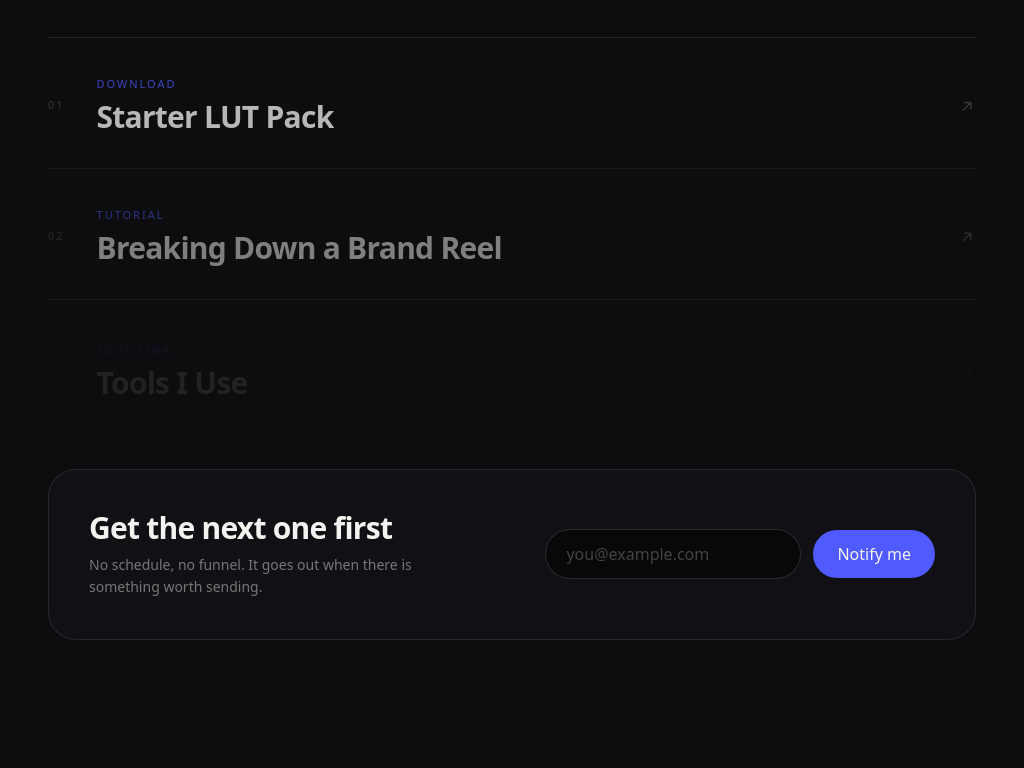
it: ResourcesTeaser › confirms signup for a valid email without claiming a backend exists
This screenshot has width=1024, height=768.
(page scrolled)
Type "reader@example.com" into the field named "email" at [673, 554], box [545, 529, 801, 579]
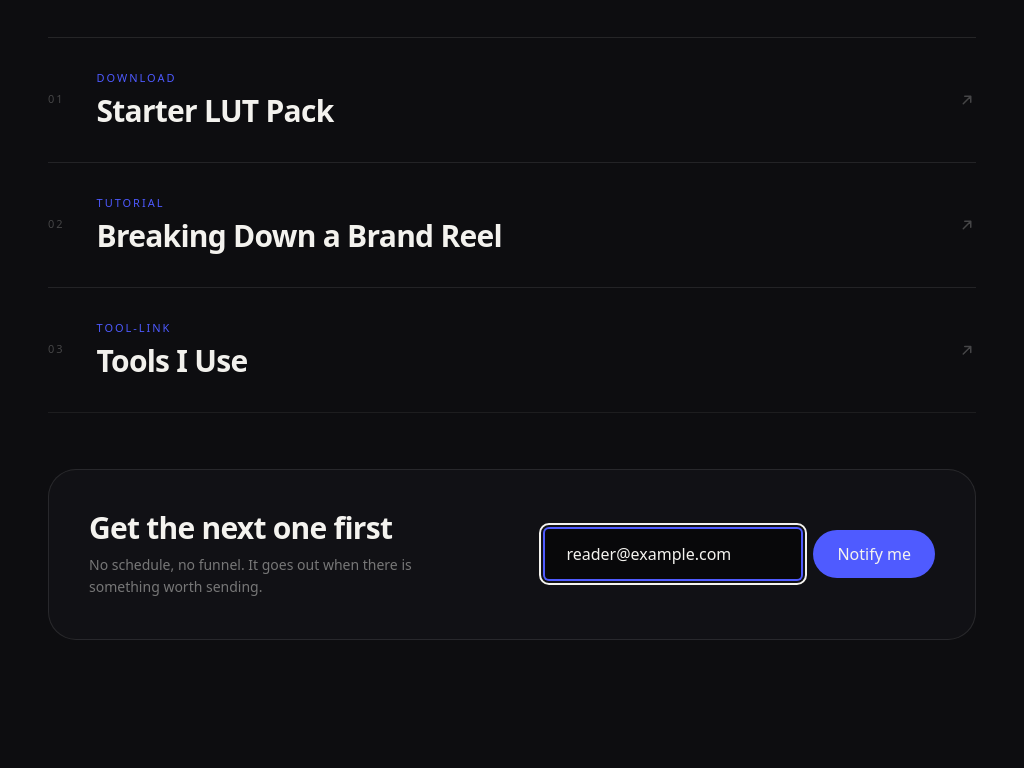
Click the button "Notify me" at [874, 554], box [813, 530, 935, 578]
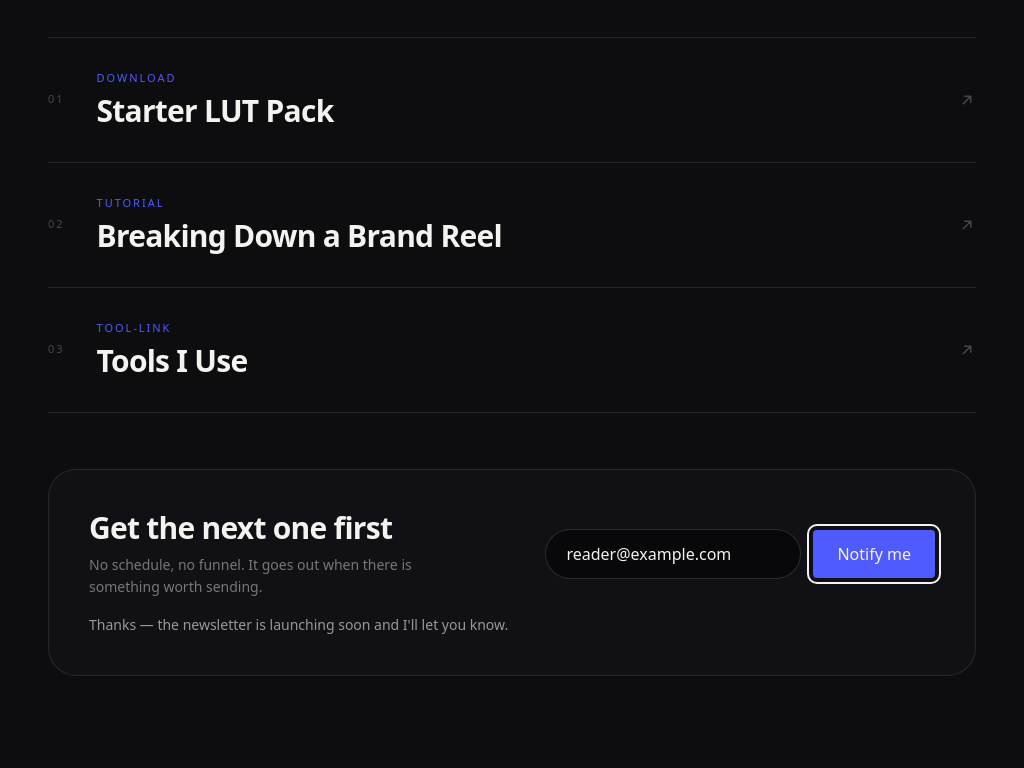
Result: the text "Thanks" is shown at [89, 615, 508, 634]
